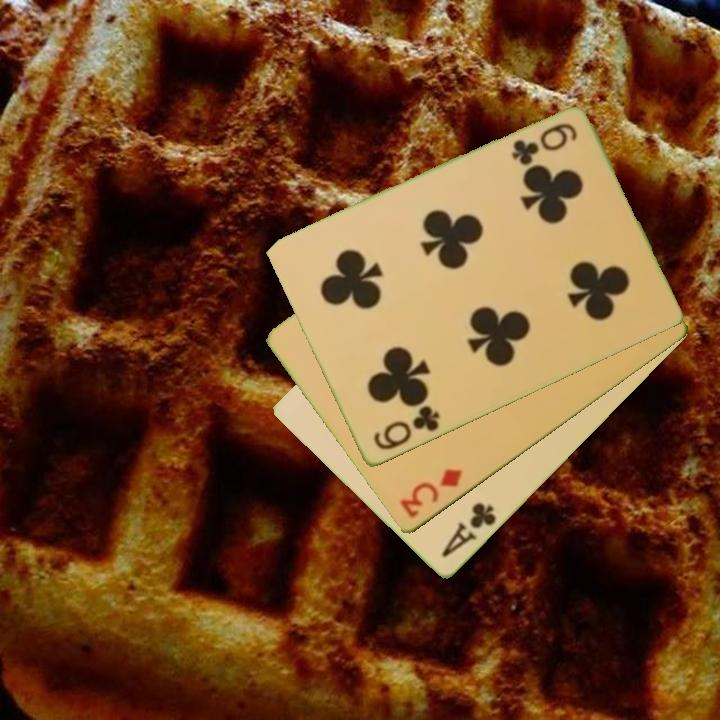3d: (395, 465, 466, 522)
6c: (369, 402, 442, 454), (507, 120, 580, 167)
Ac: (437, 499, 499, 561)
